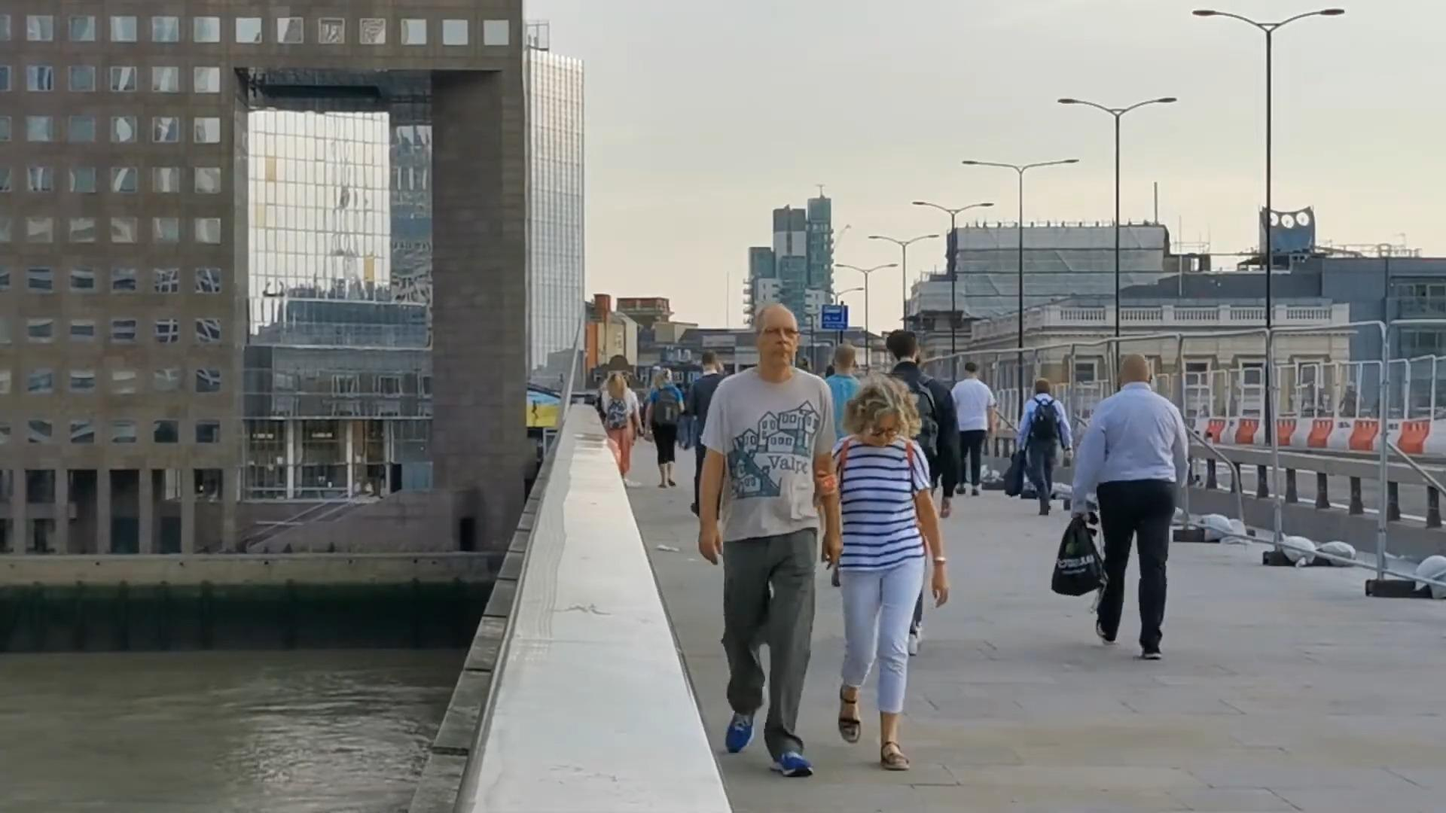no-helmet: (843, 372, 921, 448), (755, 303, 800, 369), (886, 329, 921, 364), (1118, 354, 1153, 388), (831, 344, 857, 372), (700, 349, 720, 374), (607, 372, 626, 398), (964, 362, 979, 379)
